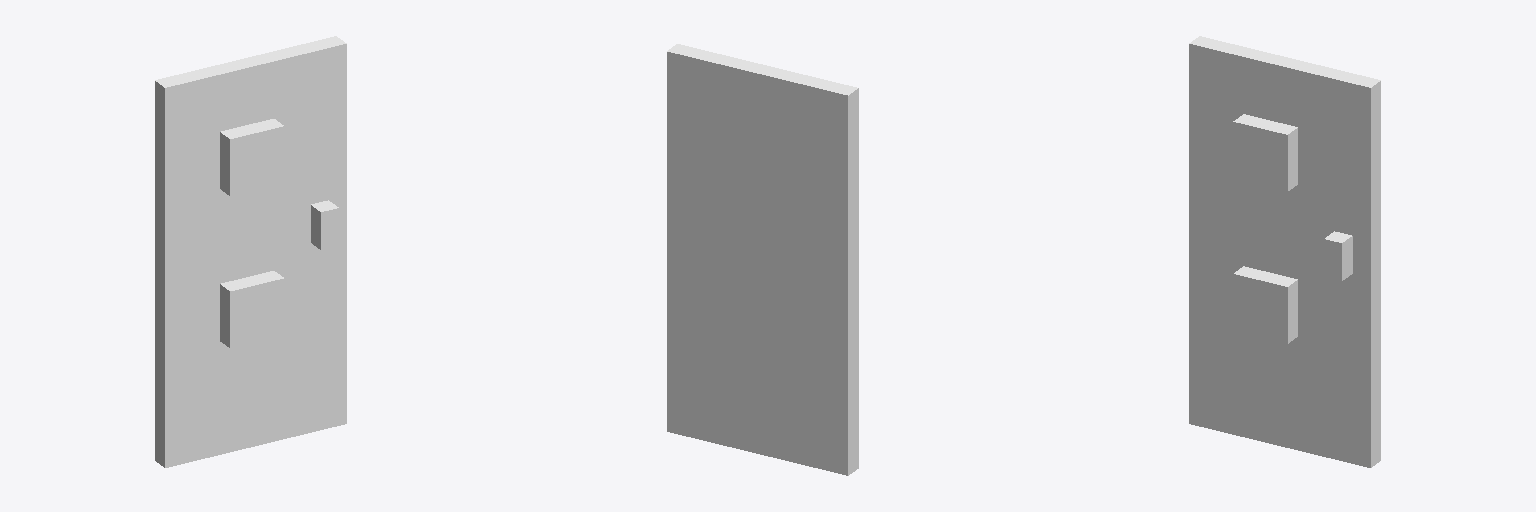
Rendered from EndDoor.obj.
The picture shows the model from 3 angles: view 1: azimuth 30°, elevation 25°; view 2: azimuth 150°, elevation 25°; view 3: azimuth 330°, elevation 25°; orthographic projection.
Visible parts, largest first — view 1: object 1; view 2: object 1; view 3: object 1.
Part boxes in pixels (x1,y1,x2,y2): object 1: (155,36,346,467); object 1: (667,44,858,475); object 1: (1189,36,1380,467).
Size of the model in its own units: 1 by 2 by 0.2.